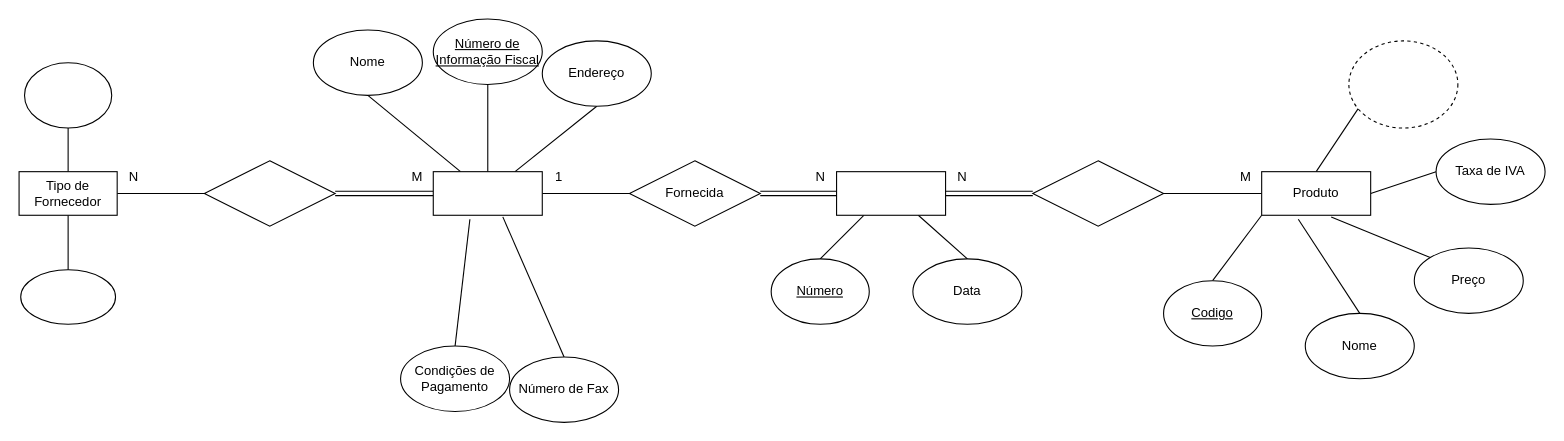
This 1564x441 diagram has some shape labels left out. Each missing label, with the centre of its shape:
Designação: the point at 68,296
Encomenda: the point at 890,193
Fornecedor: the point at 487,193
id: the point at 67,95
Stock: the point at 1403,84
Tem: the point at 1098,193
Tipo: the point at 269,193
